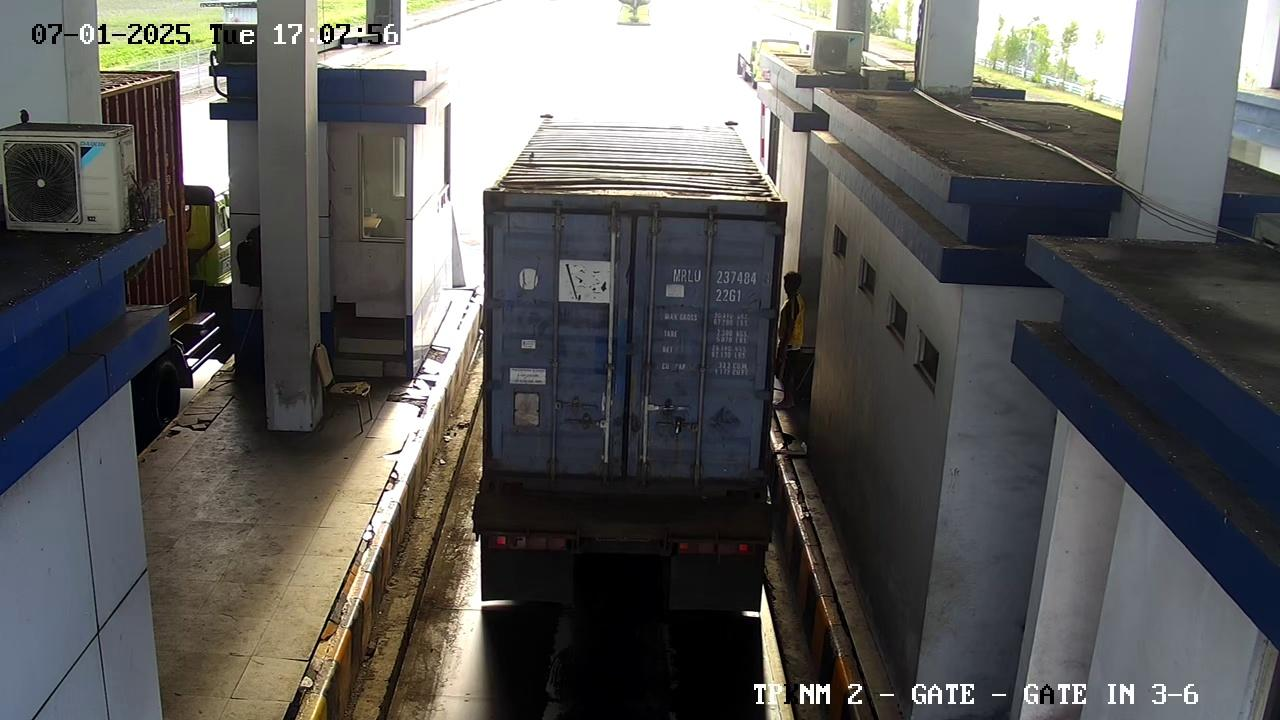Container_ID: (657, 264, 769, 315)
